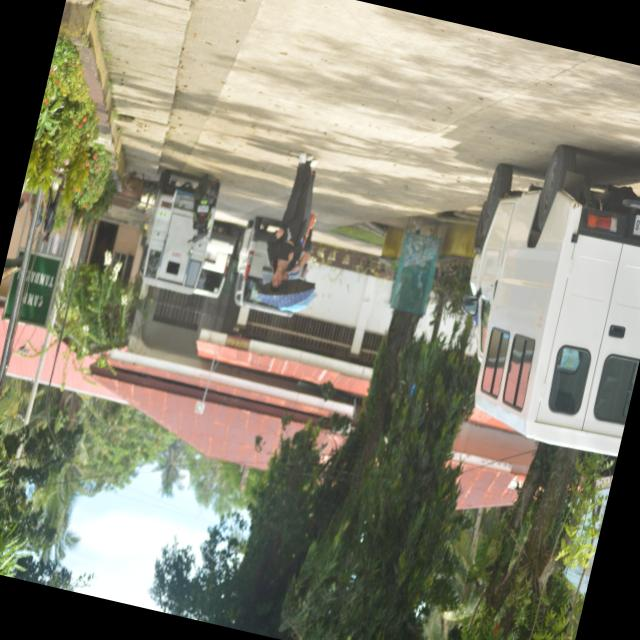person: (267, 152, 312, 290), (41, 181, 63, 242), (304, 159, 316, 223)
